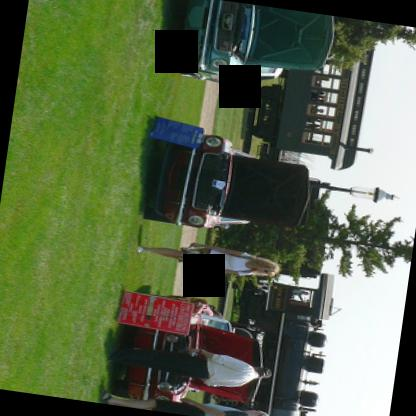backpack: (228, 254, 255, 272)
